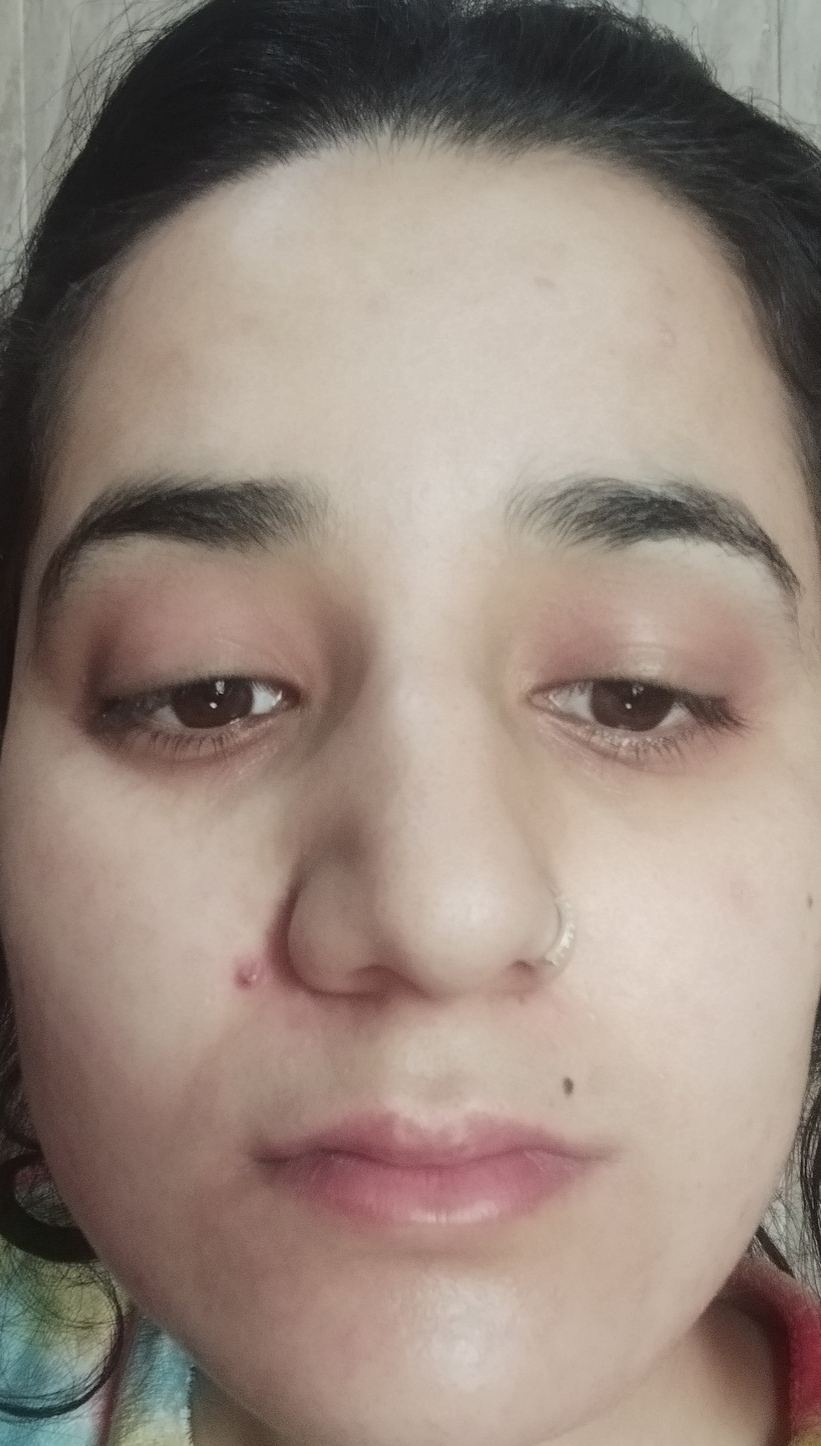papule: (220, 935, 327, 1026)
